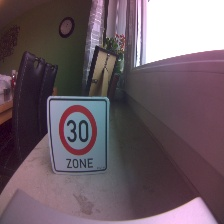dreisiger_zone: (45, 95, 110, 176)
